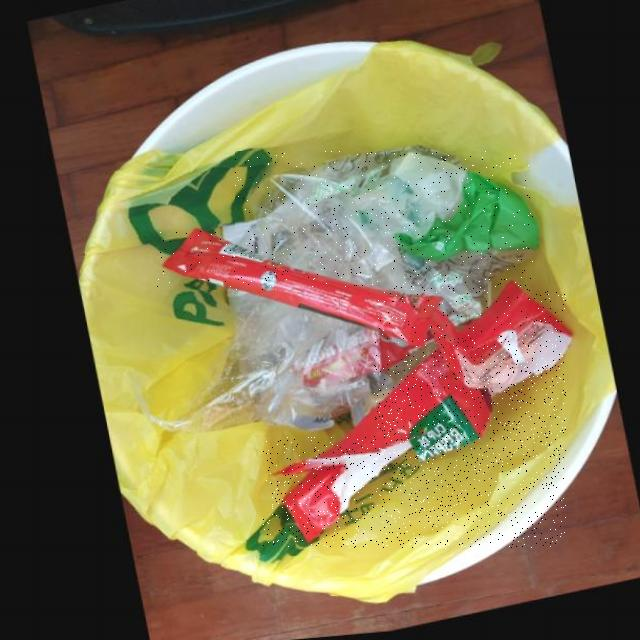plastic: (236, 151, 533, 335), (144, 291, 374, 437)
wrapper: (263, 292, 566, 548), (157, 232, 438, 355)
